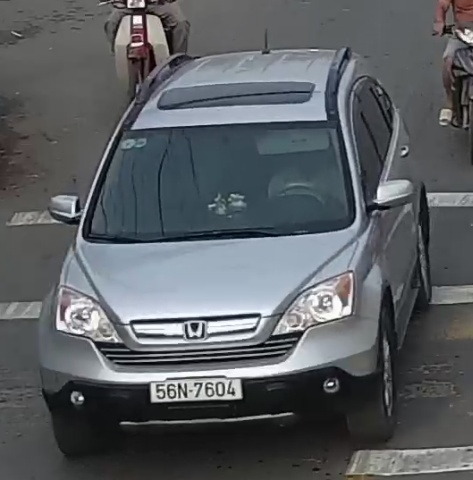vehicle plate: (146, 372, 245, 402)
